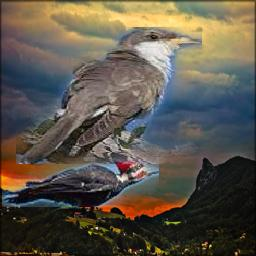Cuckoo: (16, 28, 202, 165)
Woodpecker: (3, 157, 160, 207)
